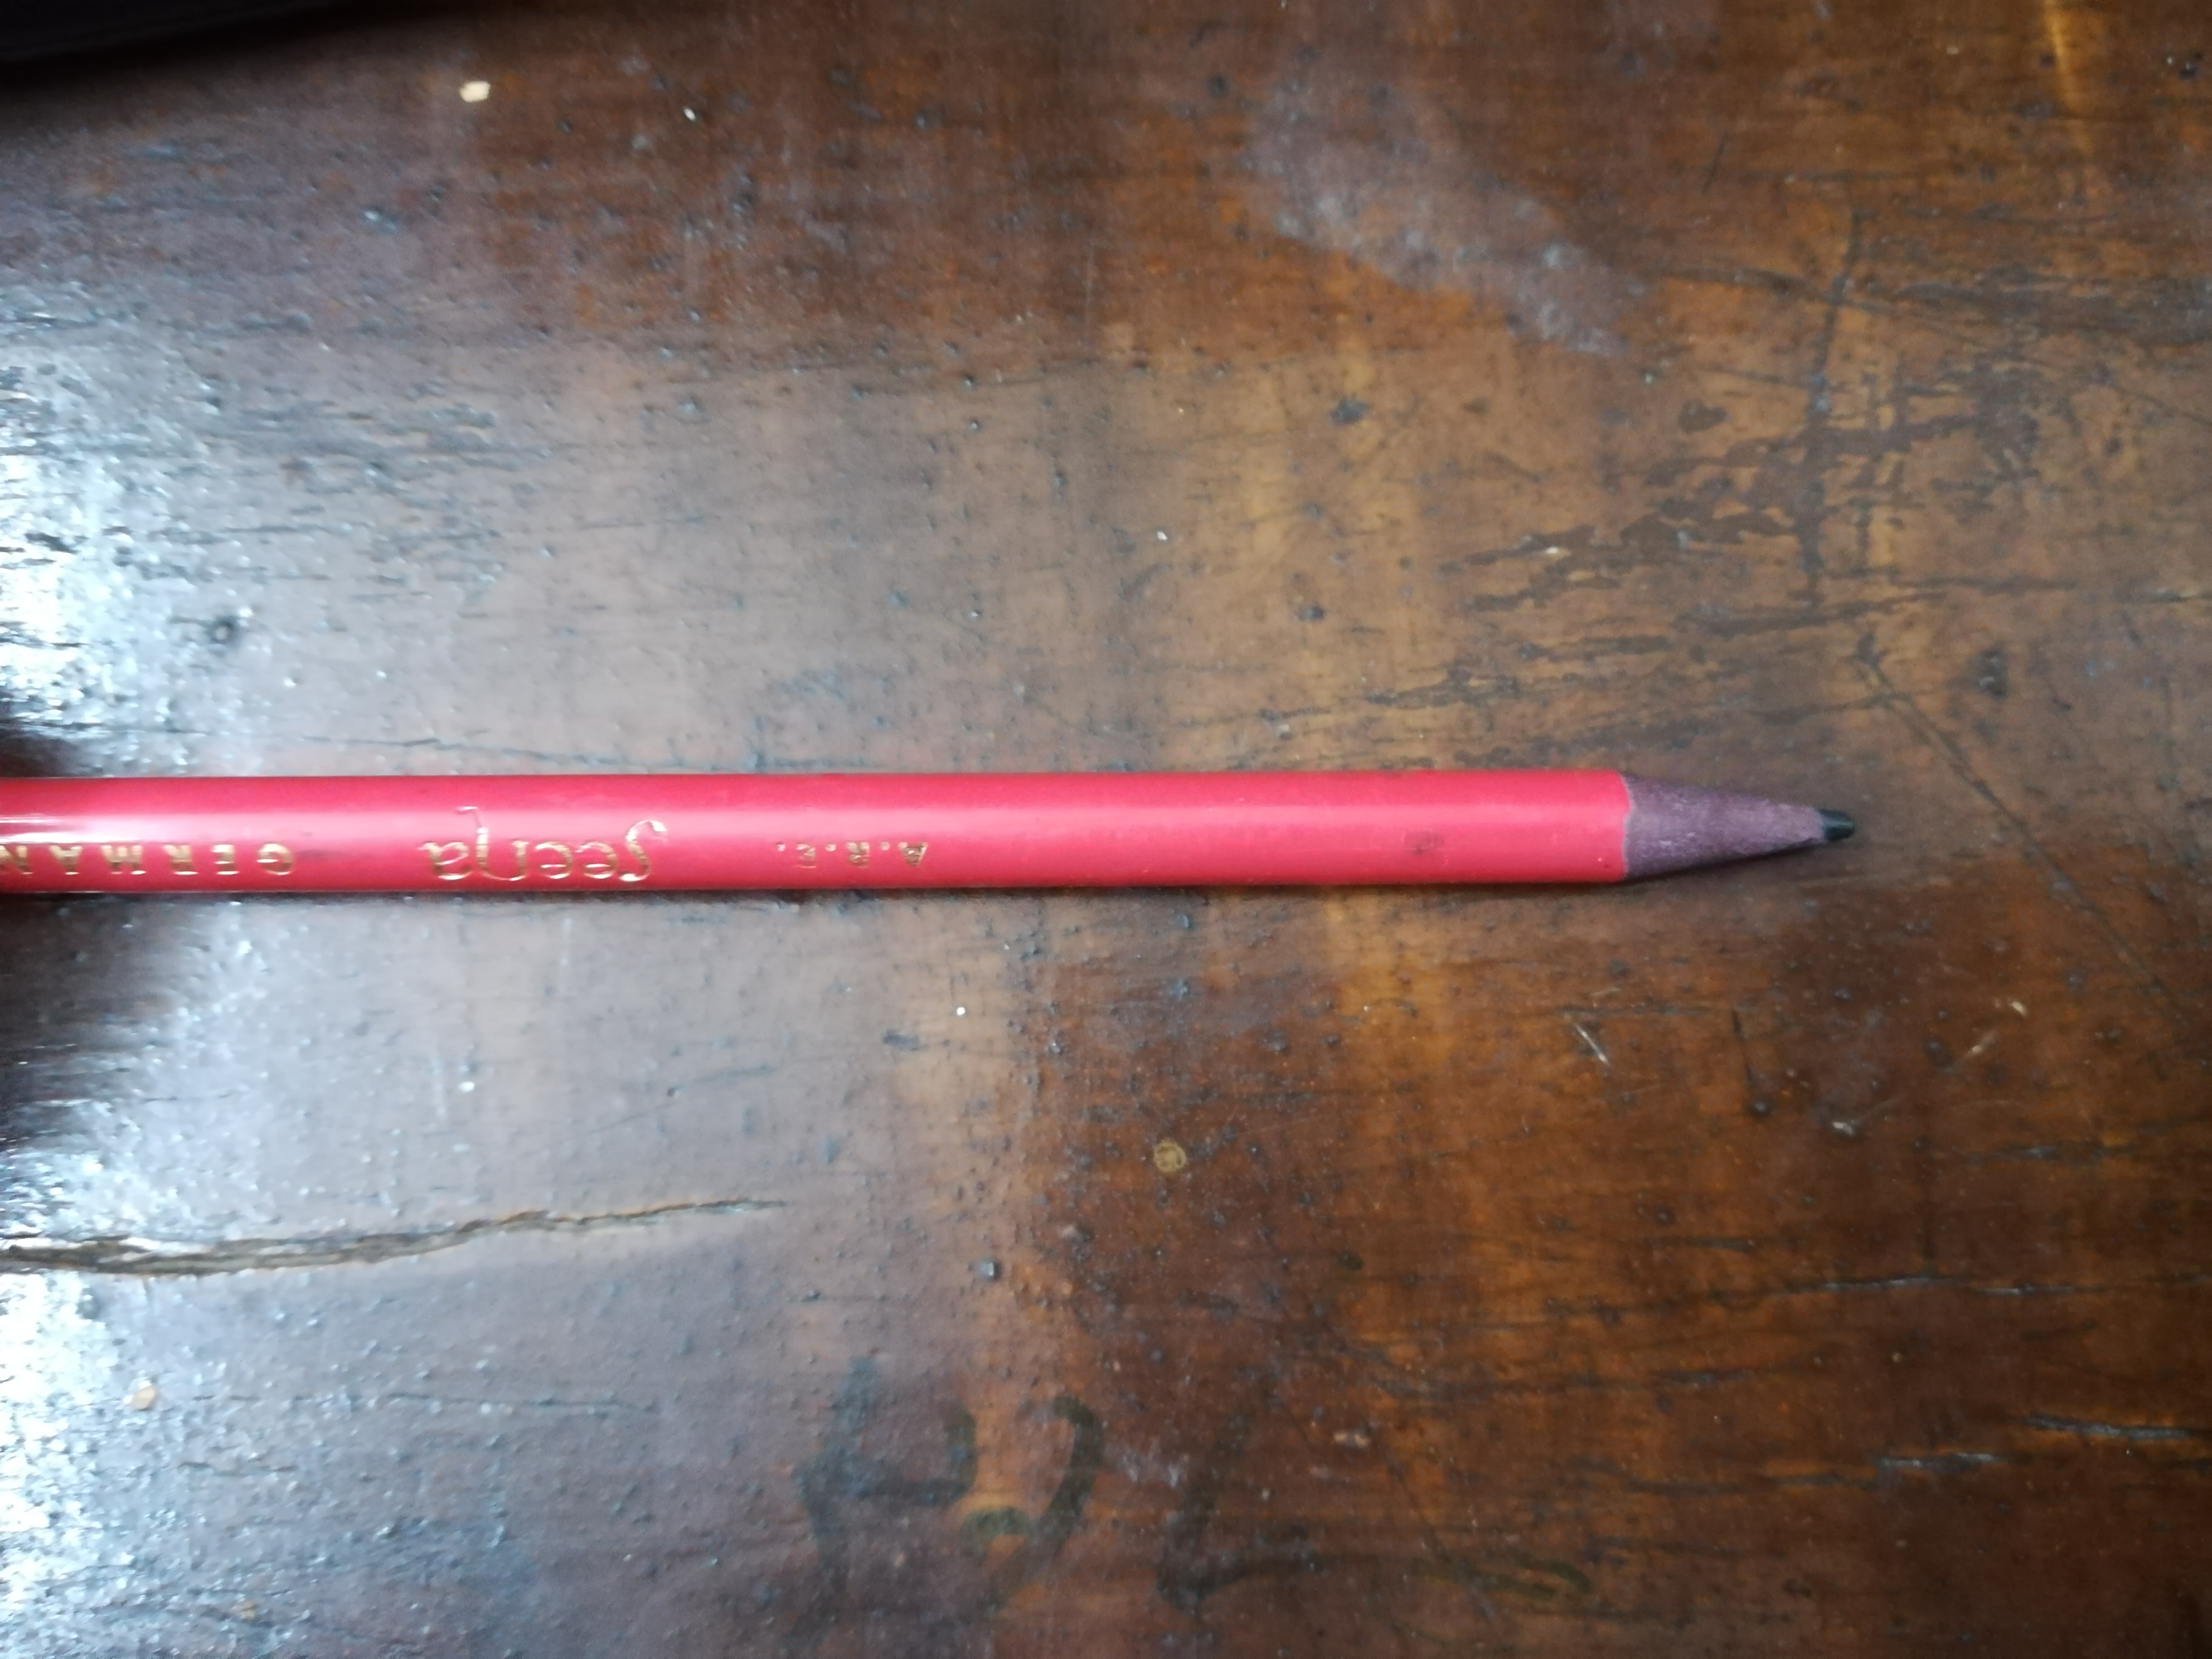pen_tip: (1503, 711, 1946, 950)
